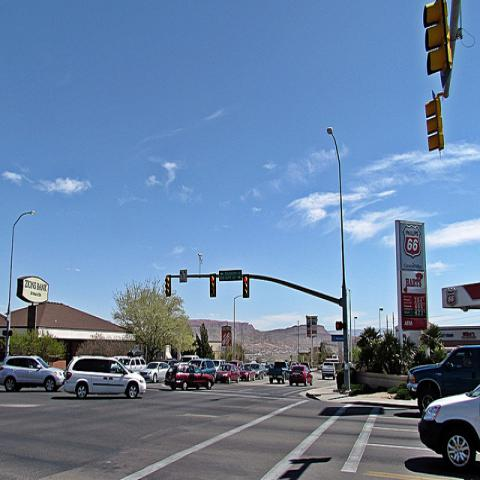car: (417, 382, 479, 473), (405, 343, 479, 417), (64, 355, 147, 401), (0, 356, 65, 393), (262, 357, 332, 379), (163, 363, 215, 392), (140, 362, 170, 382), (214, 364, 240, 384), (289, 365, 313, 386), (122, 356, 147, 374), (190, 359, 216, 374), (239, 363, 256, 382), (251, 363, 265, 380), (212, 359, 227, 371)
truck: (268, 362, 292, 384), (322, 362, 335, 380)
